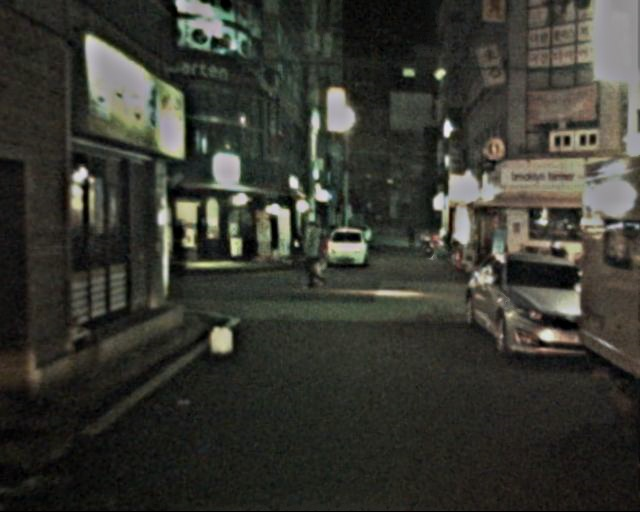person: (299, 222, 330, 294)
